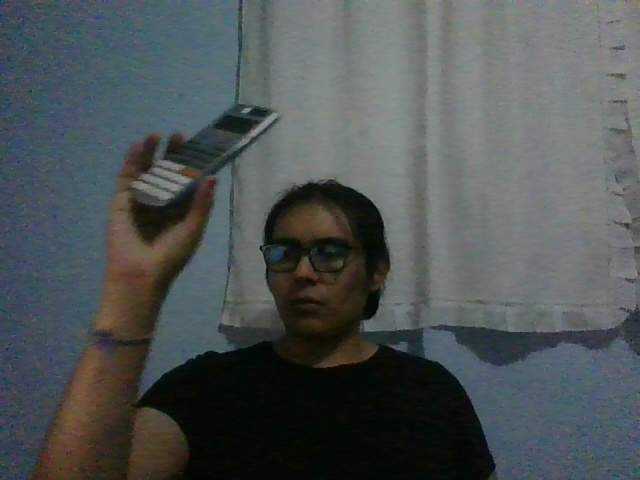calculadora: (128, 103, 282, 207)
